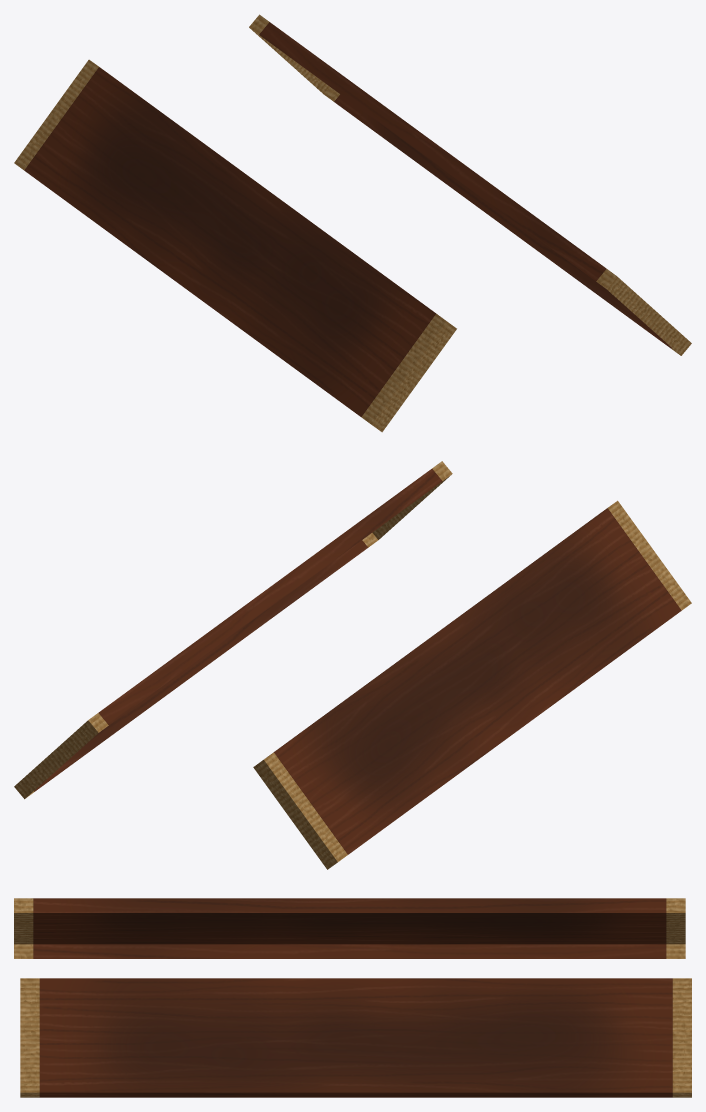
Rendered from Trough_planks.fbx.
The picture shows the model from 3 angles, top to bottom: view 1: azimuth 30°, elevation 25°; view 2: azimuth 150°, elevation 25°; view 3: azimuth 270°, elevation 25°; orthographic projection. The views are drawn at different scales.
Parts seen in each view (by area): view 1: Trough_planks; view 2: Trough_planks; view 3: Trough_planks.
Boxes of the visible parts, x1,y1,x2,y2 form: Trough_planks: (14,14,691,432); Trough_planks: (14,461,691,869); Trough_planks: (14,898,691,1097).
Size of the model in its own units: 1.15 by 0.3255 by 2.23.
